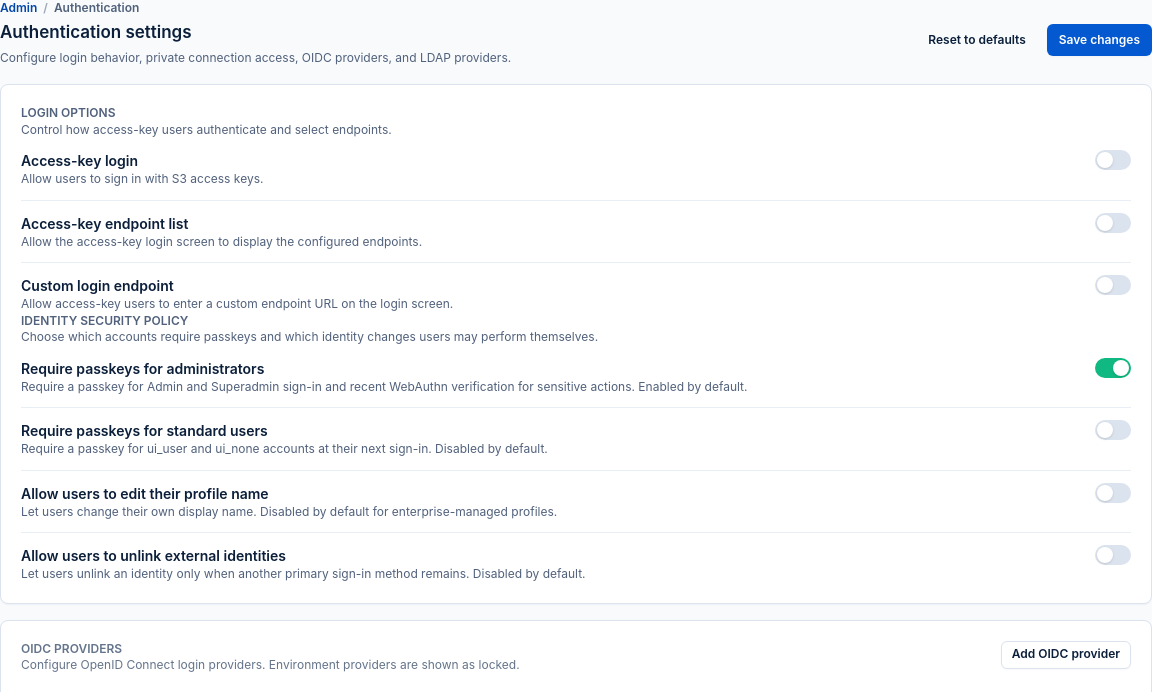
Test case: AuthenticationSettingsPage › preserves the settings draft and retries the save once after step-up
The width and height of the screenshot is (1152, 692).
Click the checkbox named "Access-key login": [1113, 160] box [1095, 150, 1131, 170]
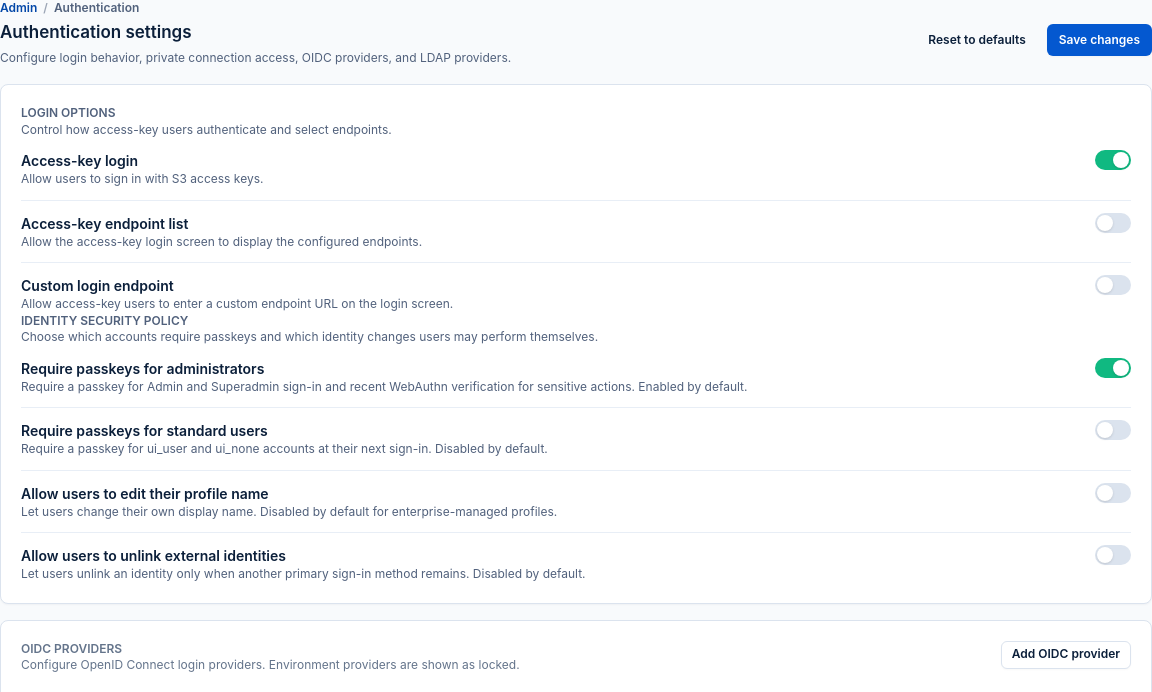
Click the button "Save changes": [1099, 40] box [1047, 24, 1151, 56]
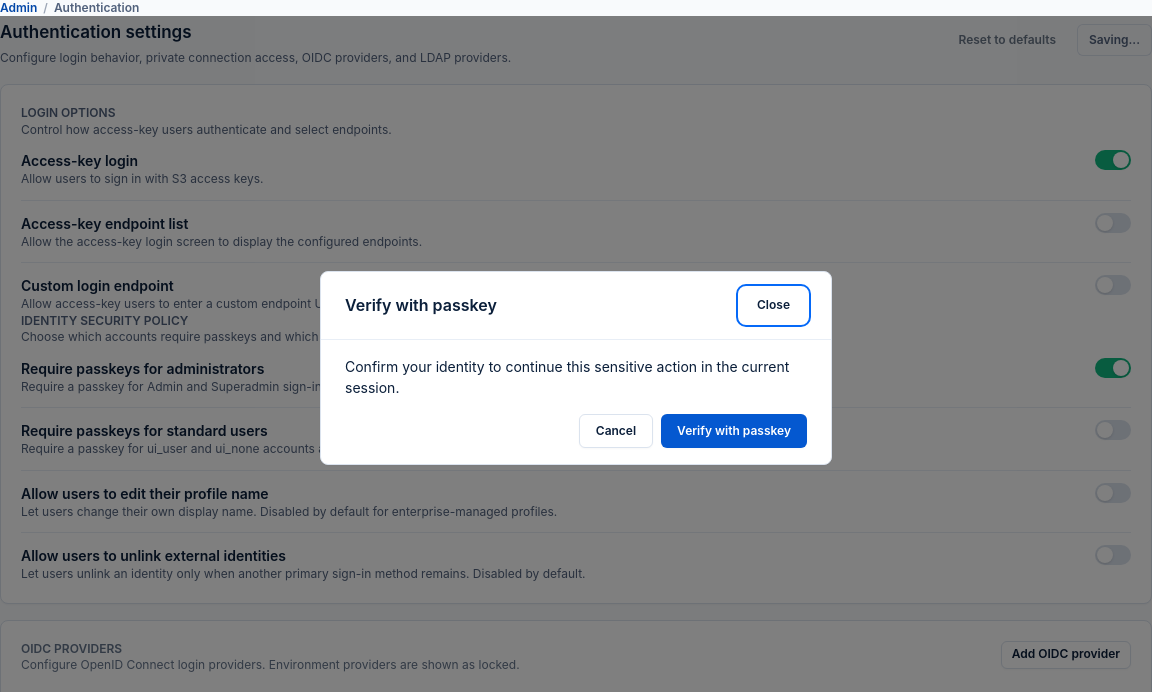
Expected: the checkbox named "Access-key login" is checked, [1095, 150, 1131, 170]
Click the button "Verify with passkey": [734, 431] box [661, 414, 807, 448]
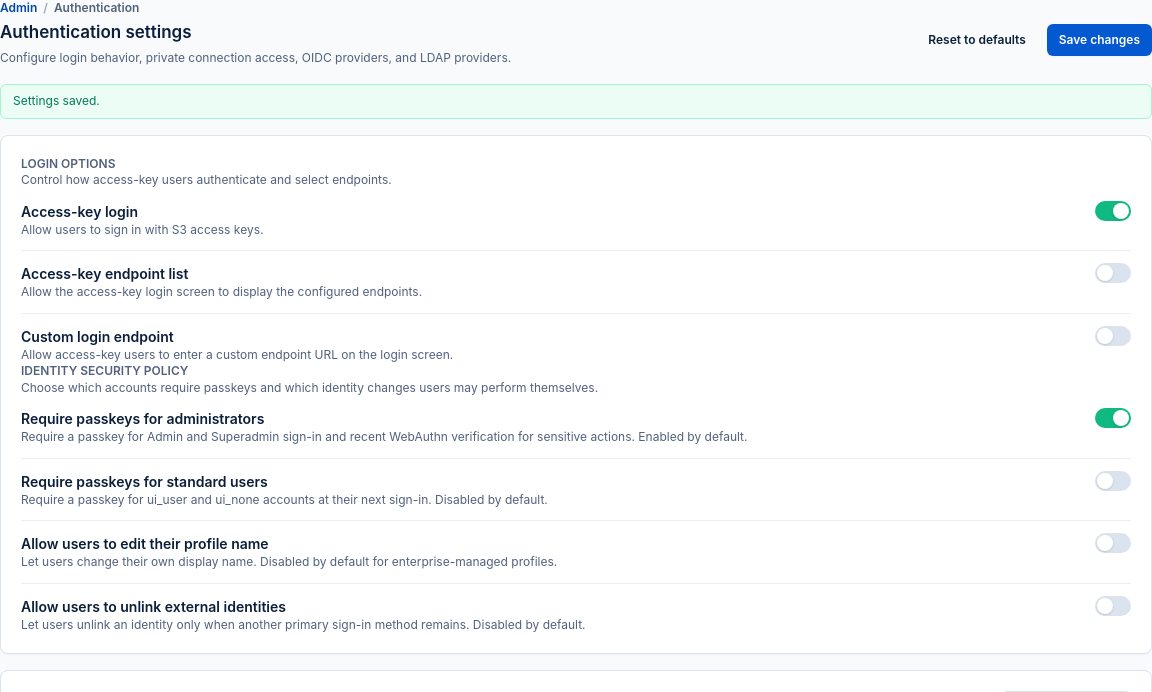
Expected: the text "Settings saved." is shown, [0, 84, 1151, 118]
